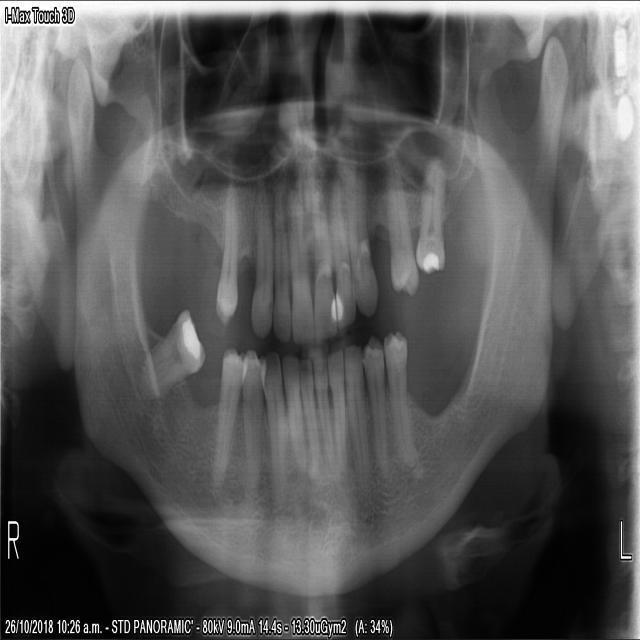LCD: (343, 338, 368, 486)
LCU: (347, 168, 378, 320)
LID: (310, 344, 335, 473), (326, 347, 348, 478)
LIU: (329, 176, 356, 330), (311, 186, 337, 339)
LMU: (414, 150, 445, 276)
LPMD: (381, 325, 418, 469), (361, 329, 389, 480)
LPMU: (384, 148, 420, 301)
RCD: (259, 348, 286, 507)
RCU: (248, 183, 272, 341)
RID: (279, 350, 306, 471), (297, 354, 319, 472)
RIU: (285, 184, 314, 346), (270, 181, 289, 343)
RMD: (135, 305, 205, 401)
RPMD: (209, 342, 243, 488), (239, 344, 262, 489)
RPMU: (213, 178, 238, 327)
